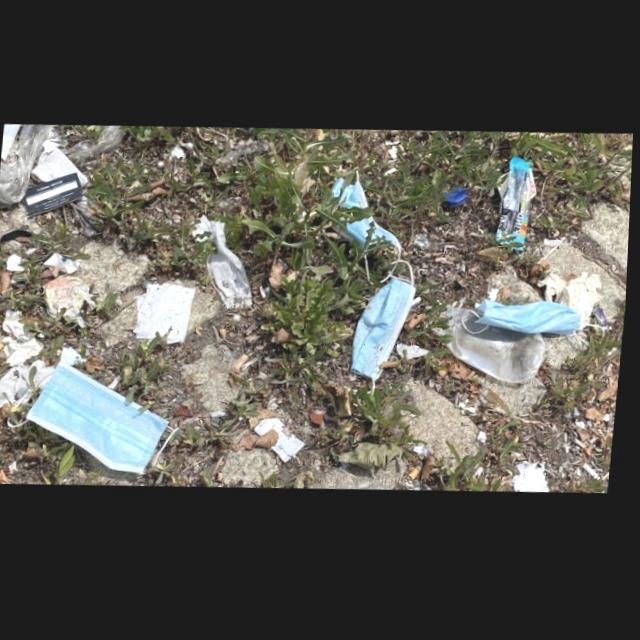paper: (137, 283, 201, 346)
plastic_sachet: (498, 159, 539, 253)
